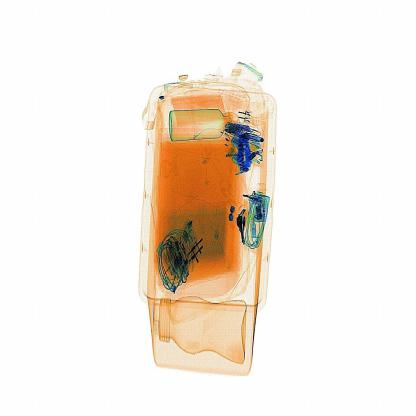scissors: (234, 132, 252, 179)
